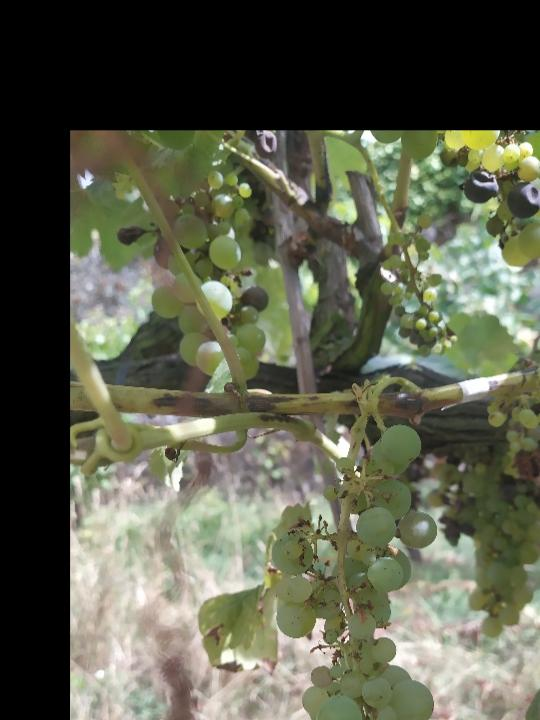grape: (269, 423, 442, 720)
